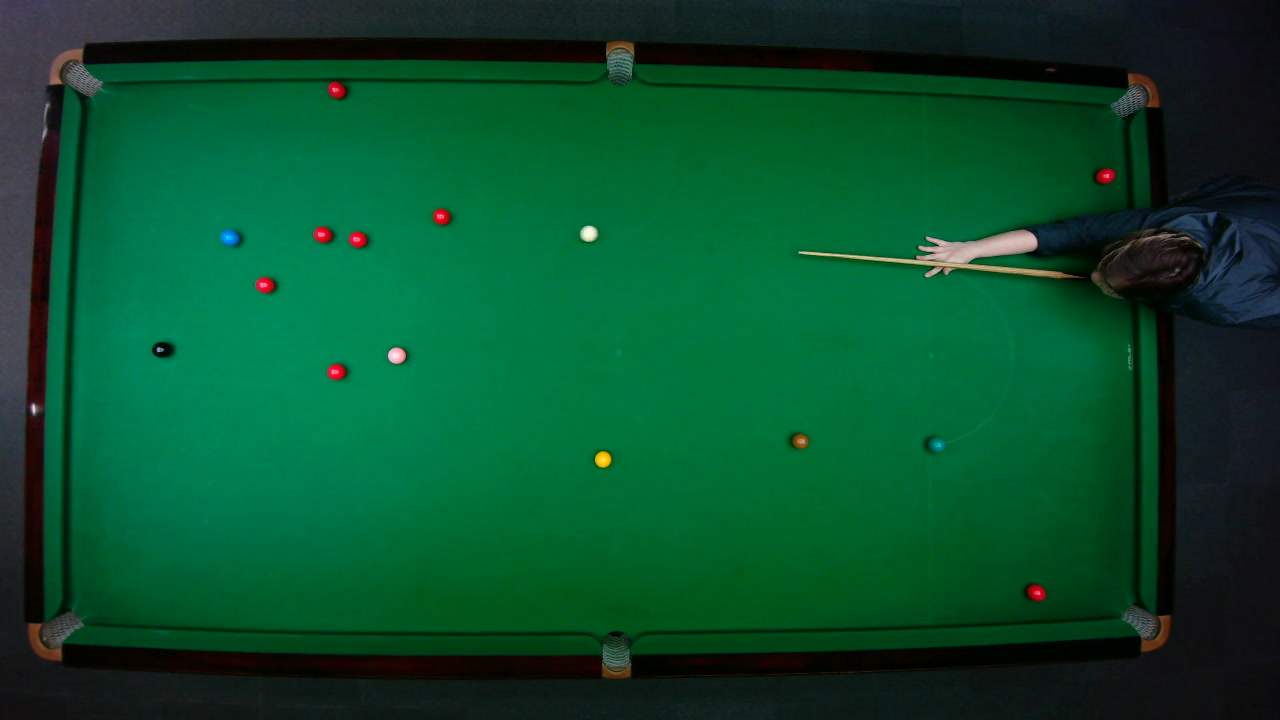bag: (26, 609, 84, 660), (46, 47, 102, 97), (1119, 603, 1171, 651), (1108, 72, 1160, 118), (601, 629, 630, 680), (605, 39, 633, 86)
black: (150, 340, 172, 358)
blue: (218, 228, 240, 246)
brown: (790, 432, 809, 449)
cue: (795, 249, 1086, 281)
green: (926, 435, 945, 452)
pink: (386, 345, 407, 364)
red: (1024, 582, 1046, 601), (1093, 166, 1116, 184), (326, 80, 346, 99), (347, 229, 367, 248), (325, 362, 346, 380), (311, 225, 332, 243), (254, 275, 275, 293), (431, 207, 451, 225)
white: (578, 223, 598, 242)
yellow: (593, 450, 612, 468)
zone: (925, 256, 1013, 445)
